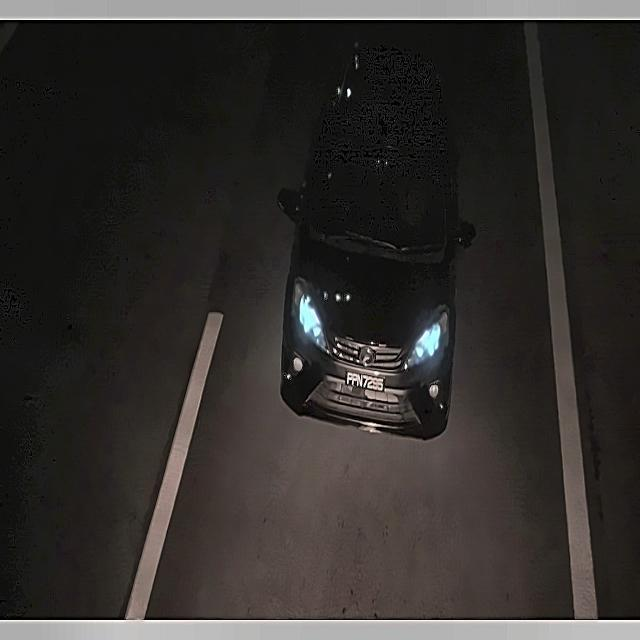car: (339, 358, 386, 402)
